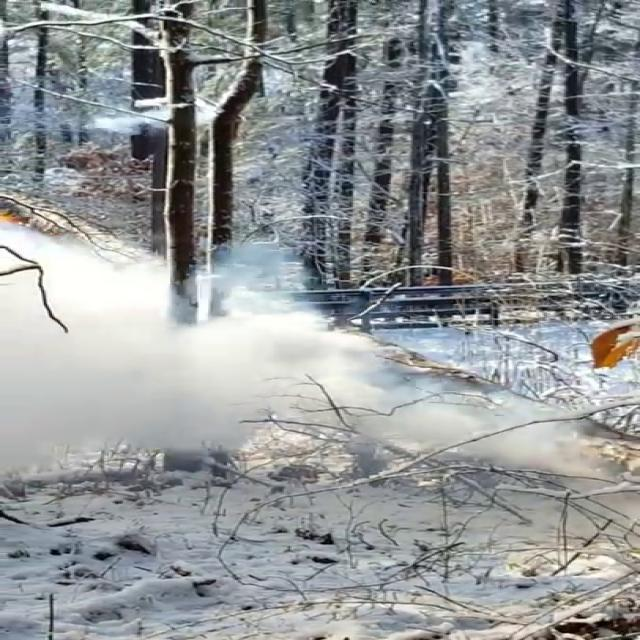Smoke: (1, 204, 606, 475)
